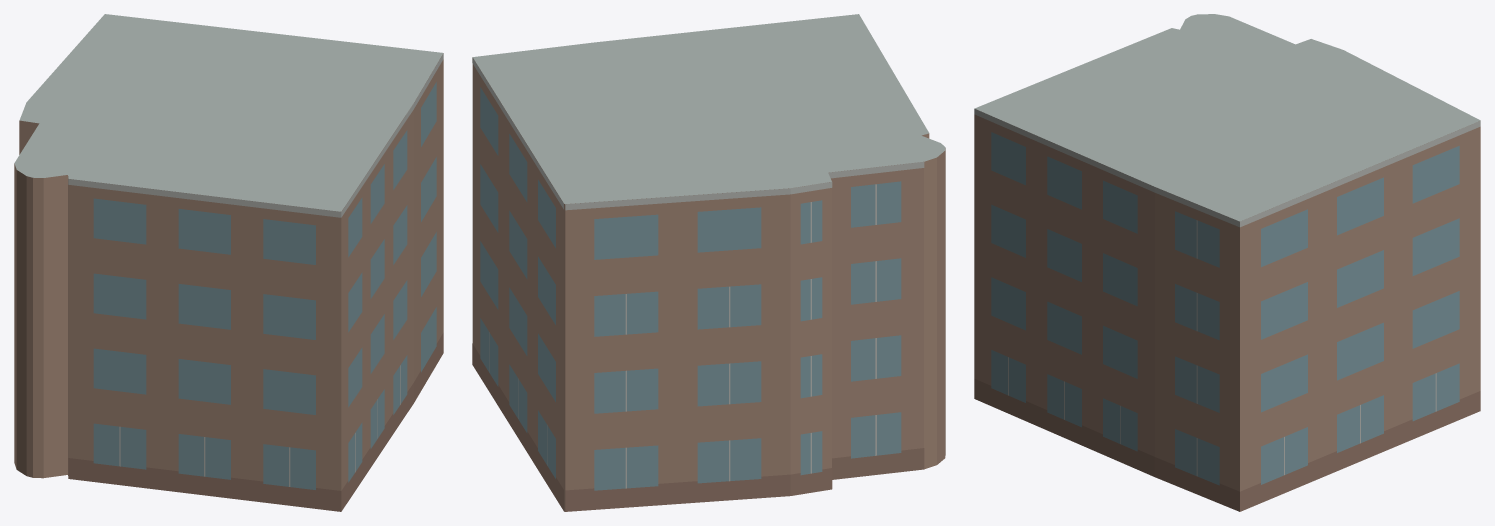
The model's file is survey-upis-32472216.glb.
3 renders of one model, left to right at view 1: azimuth 30°, elevation 25°; view 2: azimuth 150°, elevation 25°; view 3: azimuth 270°, elevation 25°, orthographic. The views are drawn at different scales.
Visible parts, largest first — view 1: survey-upis-32472216.tmp; view 2: survey-upis-32472216.tmp; view 3: survey-upis-32472216.tmp.
Part boxes in pixels (box(x1,y1,x2,y2)): survey-upis-32472216.tmp: box(14, 14, 443, 511); survey-upis-32472216.tmp: box(472, 14, 945, 511); survey-upis-32472216.tmp: box(974, 14, 1480, 511).
Bounding box in the file's own units: 18.72 × 12.2 × 19.29.
